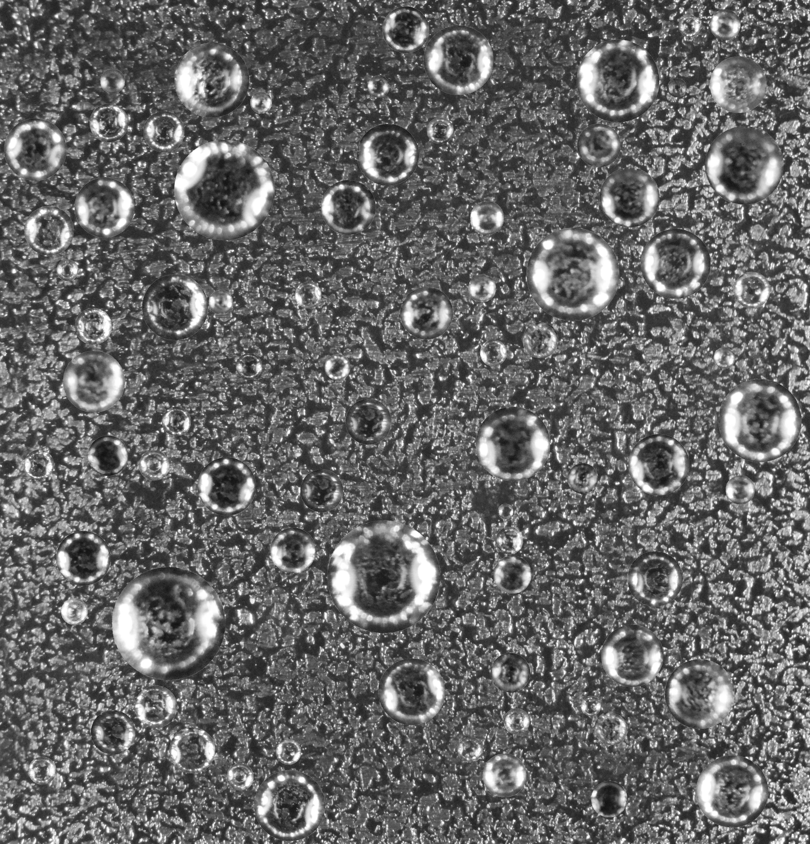Bubble: (112, 567, 225, 680), (327, 520, 440, 633), (174, 139, 274, 240), (526, 227, 619, 320), (718, 379, 801, 462), (576, 39, 659, 122), (705, 126, 783, 204), (475, 406, 550, 481), (174, 42, 249, 117), (696, 755, 768, 827), (254, 770, 325, 841), (640, 228, 710, 298), (423, 25, 493, 94), (665, 659, 734, 728), (378, 658, 444, 725), (142, 274, 207, 340), (4, 118, 66, 180), (601, 624, 663, 686), (357, 123, 418, 185), (63, 350, 124, 412), (628, 434, 689, 495), (599, 167, 659, 227), (74, 177, 134, 237), (197, 457, 255, 515), (710, 56, 766, 112), (627, 551, 682, 606), (56, 531, 110, 585), (321, 180, 375, 234), (400, 286, 452, 339), (24, 206, 73, 255), (382, 6, 429, 52), (345, 398, 391, 444), (169, 727, 215, 773), (270, 527, 315, 573), (90, 710, 135, 754), (482, 753, 526, 797), (577, 123, 620, 167), (300, 469, 343, 512), (134, 685, 176, 727), (143, 111, 184, 152), (87, 435, 128, 475), (490, 653, 530, 692), (89, 103, 128, 142), (493, 555, 531, 593), (733, 271, 770, 308), (591, 781, 627, 817), (522, 322, 558, 358), (75, 308, 111, 344), (594, 711, 628, 745), (470, 201, 503, 234), (567, 463, 598, 493), (23, 449, 53, 479), (139, 450, 169, 480), (710, 9, 740, 39), (161, 406, 190, 435), (725, 475, 754, 504), (28, 756, 56, 784), (495, 526, 523, 554), (468, 274, 495, 302), (226, 763, 253, 790), (480, 339, 506, 366), (235, 353, 262, 379), (503, 708, 529, 734), (61, 598, 87, 624), (427, 117, 453, 143), (295, 282, 321, 308), (275, 739, 301, 764), (324, 354, 350, 379), (457, 737, 482, 762), (100, 68, 124, 93), (208, 290, 232, 314), (367, 75, 389, 97), (678, 15, 700, 37), (250, 91, 271, 113), (56, 259, 78, 280), (713, 347, 735, 368), (581, 696, 601, 716), (667, 78, 686, 97), (497, 503, 513, 519), (330, 144, 342, 156)
